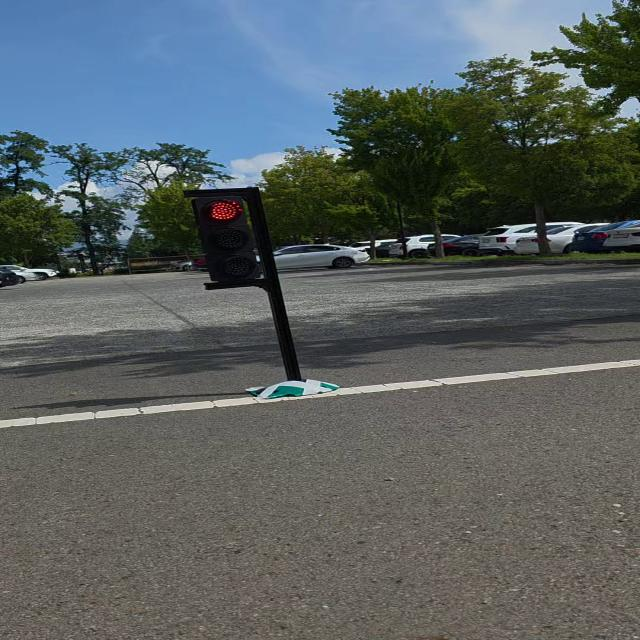red: (178, 187, 279, 288)
